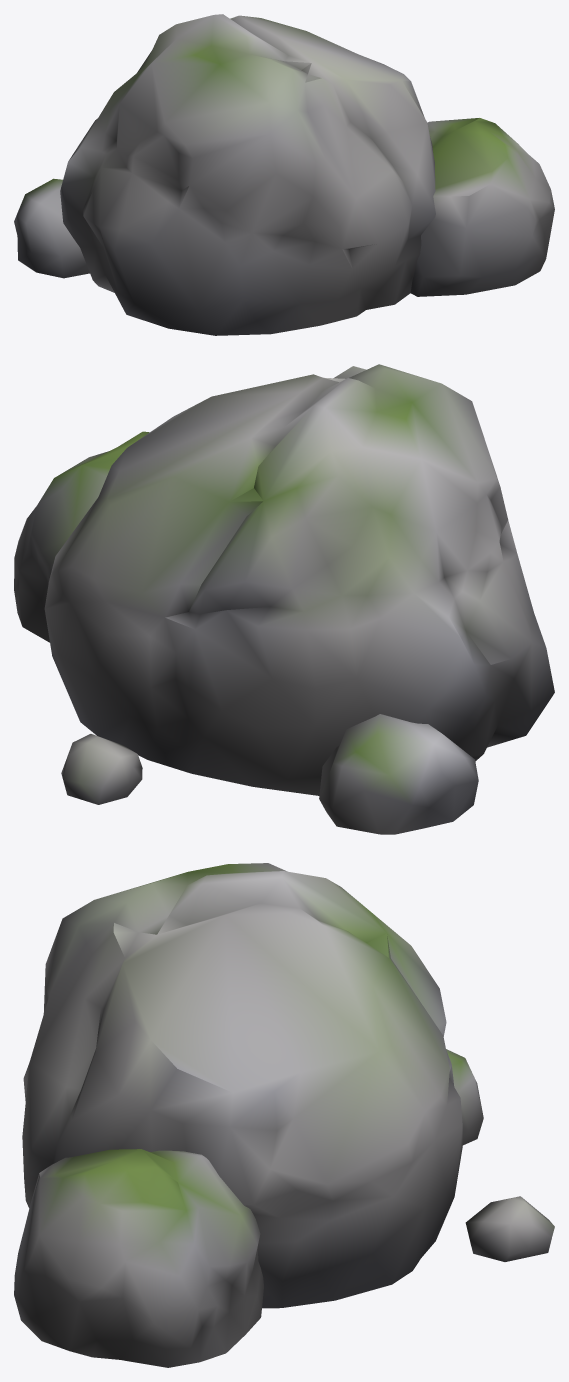
The model's file is rock-whole-v1.glb.
The picture shows the model from 3 angles, top to bottom: view 1: azimuth 30°, elevation 25°; view 2: azimuth 150°, elevation 25°; view 3: azimuth 270°, elevation 25°; orthographic projection. The views are drawn at different scales.
Parts seen in each view (by area): view 1: 0_rock; view 2: 0_rock; view 3: 0_rock.
Boxes of the visible parts, bbox=[...] form: 0_rock: bbox=[14, 14, 554, 335]; 0_rock: bbox=[14, 364, 554, 834]; 0_rock: bbox=[14, 863, 554, 1367].
Bounding box in the file's own units: 2.47 × 1.34 × 2.04.
